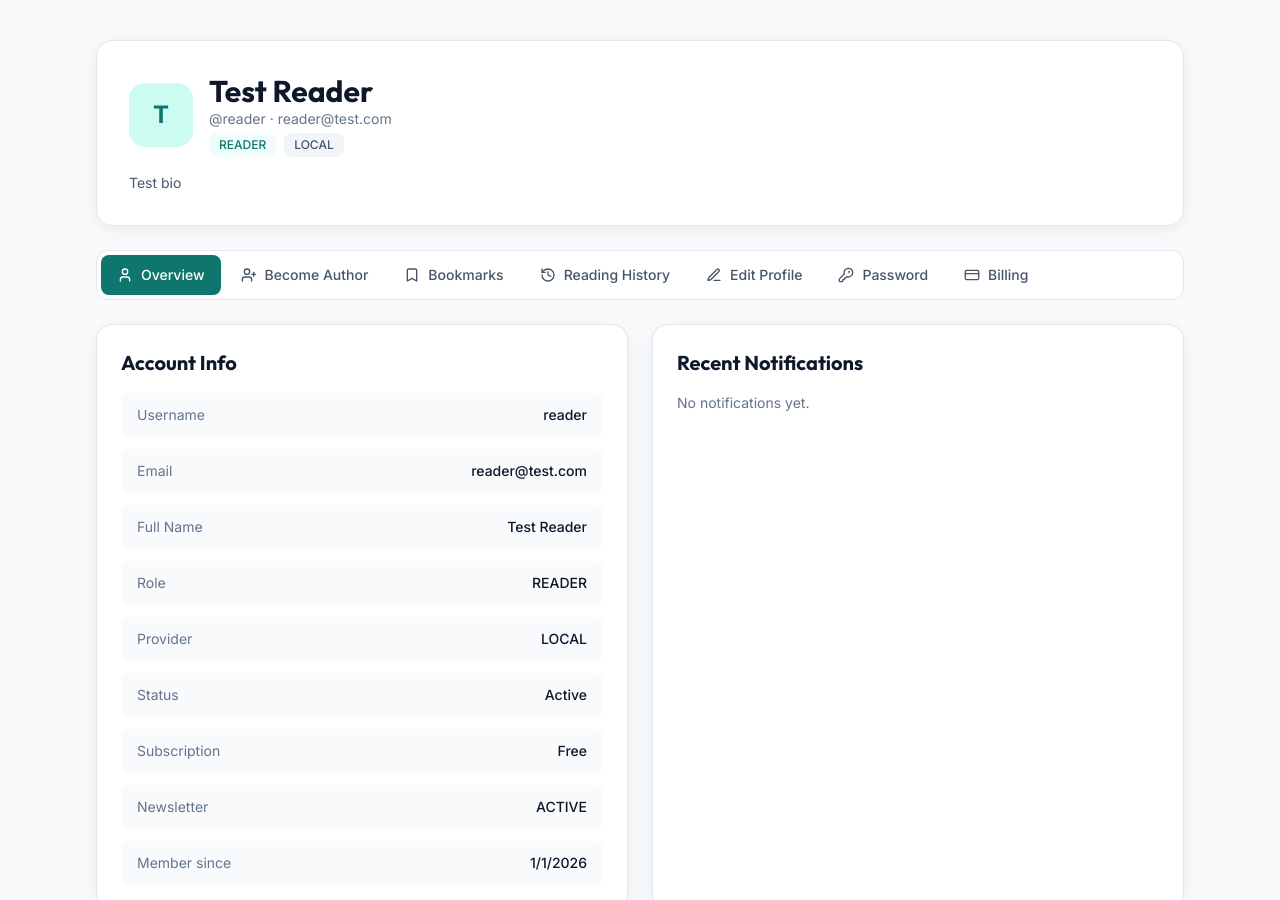
Test: ProfilePage › switches to password tab
The width and height of the screenshot is (1280, 900).
Click the button "Password": (883, 275) [822,255,944,295]
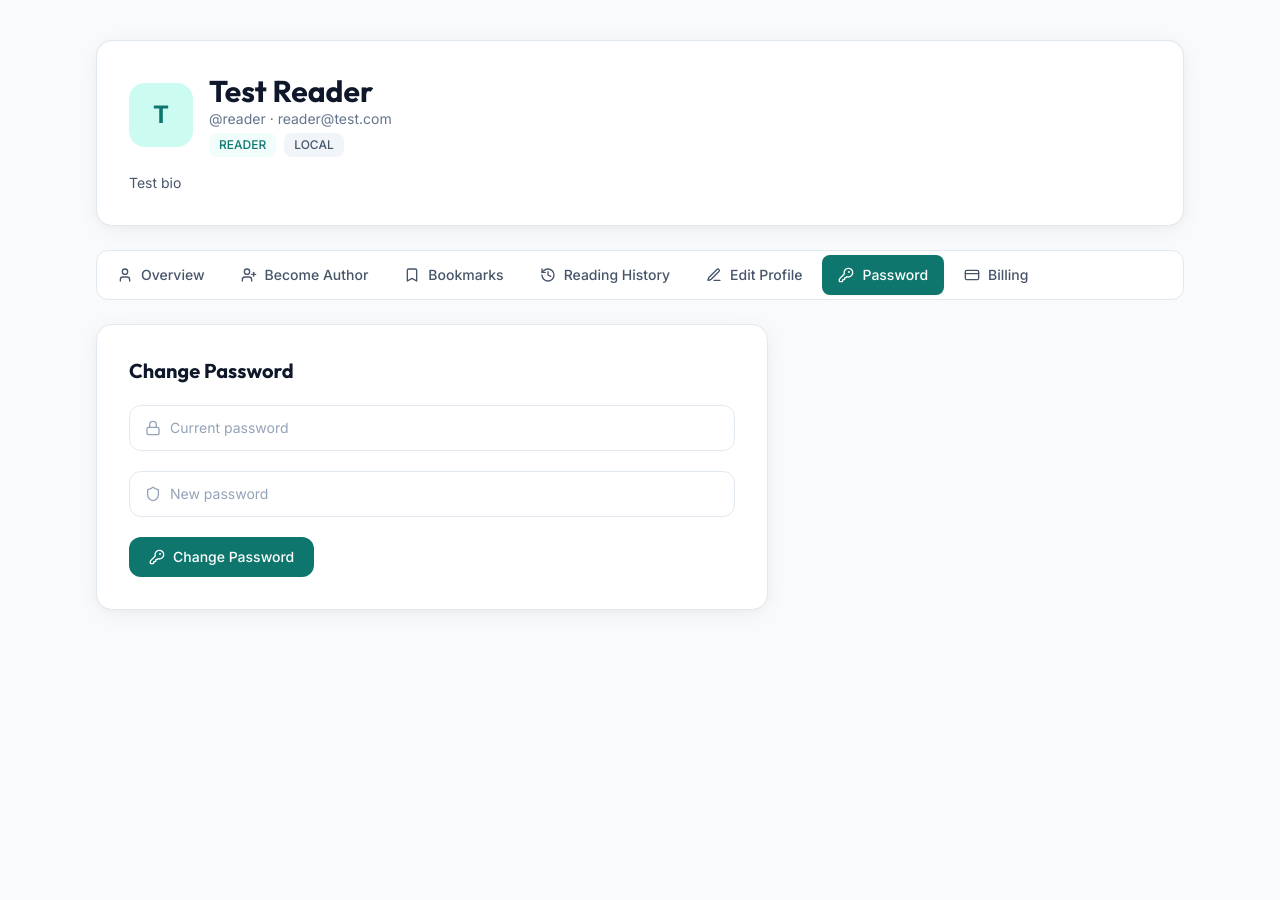
Now the heading "Change Password" is shown, box [129,358,294,383]
Now the password field with placeholder "Current password" is shown, box [129,405,735,451]
Now the password field with placeholder "New password" is shown, box [129,471,735,517]
